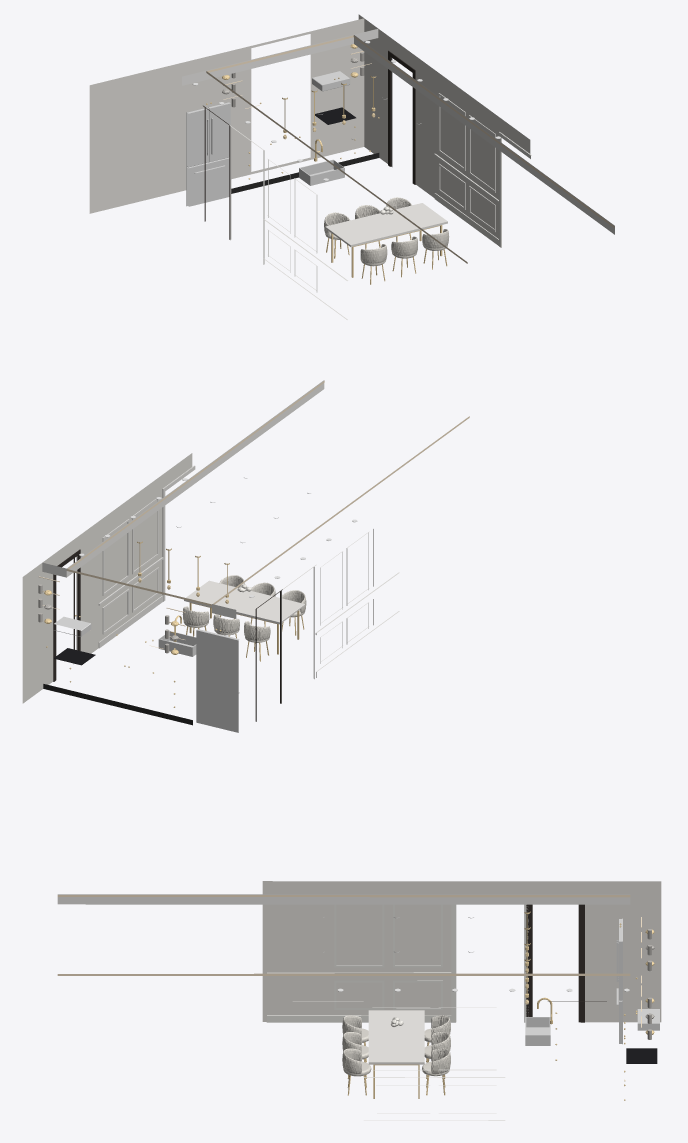
Rendered from KITDIN.glb.
3 views of the same model, one above another, from view 1: azimuth 30°, elevation 25°; view 2: azimuth 150°, elevation 25°; view 3: azimuth 270°, elevation 25° (orthographic). The views are drawn at different scales.
Parts seen in each view (by area): view 1: WEB_KITDIN; view 2: WEB_KITDIN; view 3: WEB_KITDIN.
Part boxes in pixels (x1,y1,x2,y2): WEB_KITDIN: [89, 14, 614, 319]; WEB_KITDIN: [22, 380, 469, 732]; WEB_KITDIN: [57, 881, 661, 1120].
Bounding box in the file's own units: 7.6 × 2.5 × 10.61.
